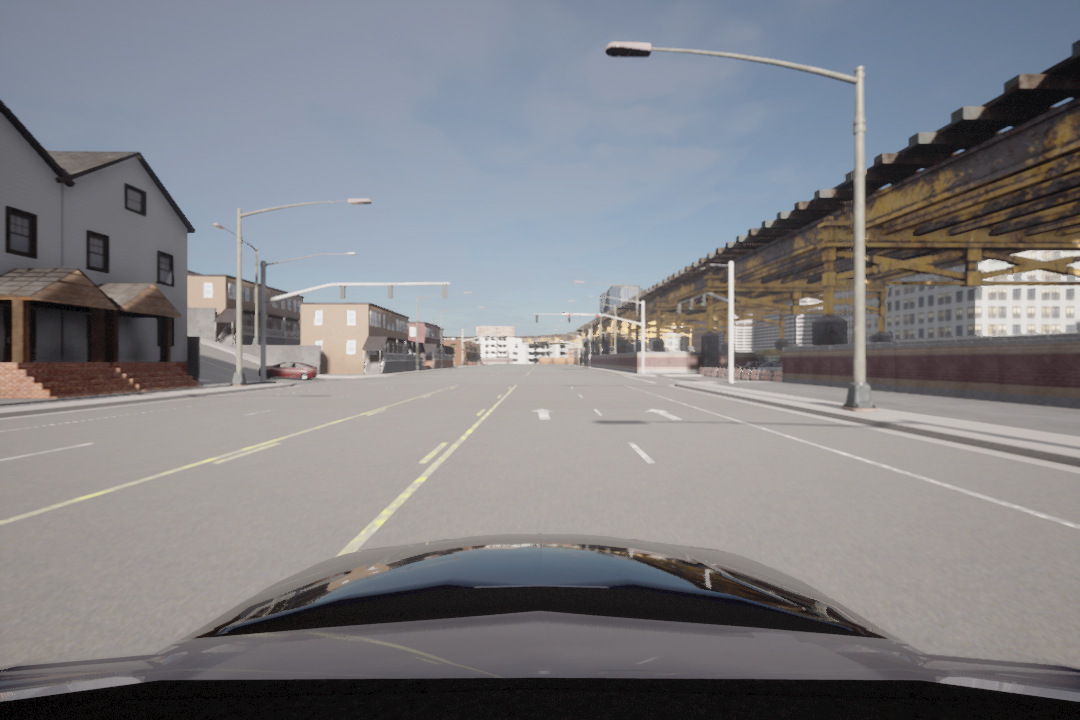RoadSign_forward: (643, 405, 689, 424), (533, 401, 554, 426)
